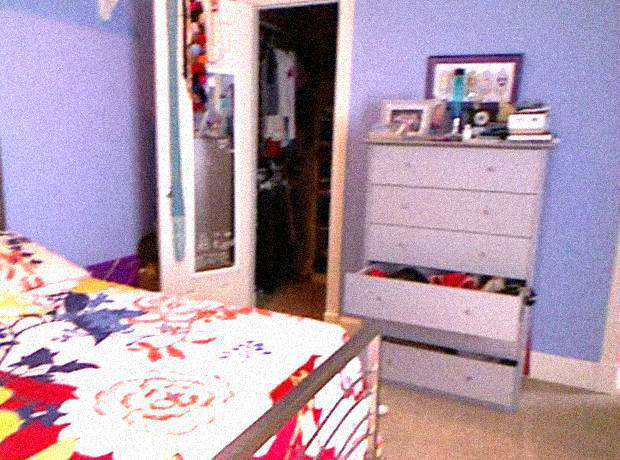Armario: (349, 138, 553, 409)
